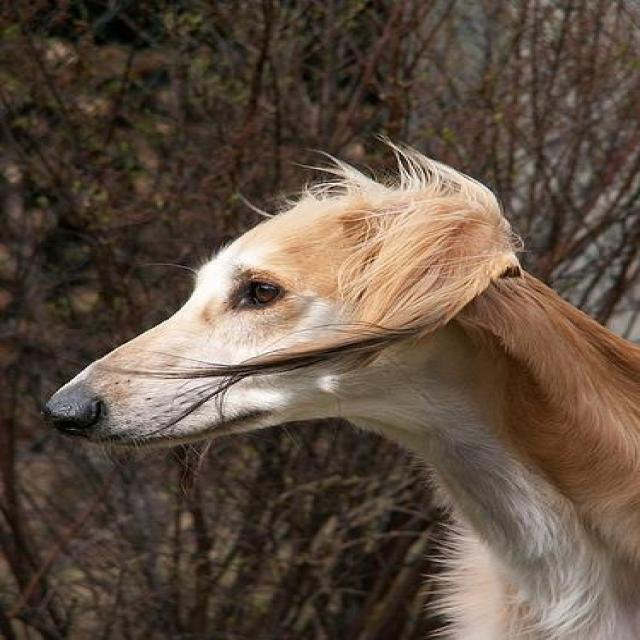saluki: (39, 135, 637, 638)
